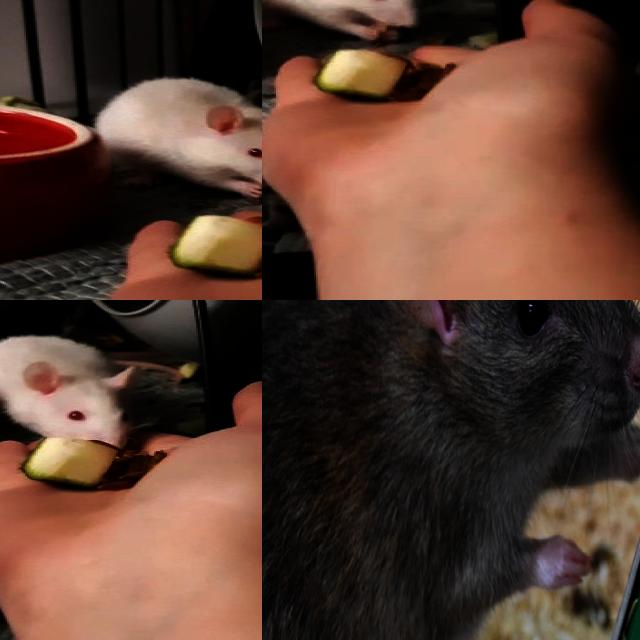rat: (262, 300, 640, 603), (86, 76, 262, 202), (0, 336, 145, 450), (262, 0, 435, 45)
